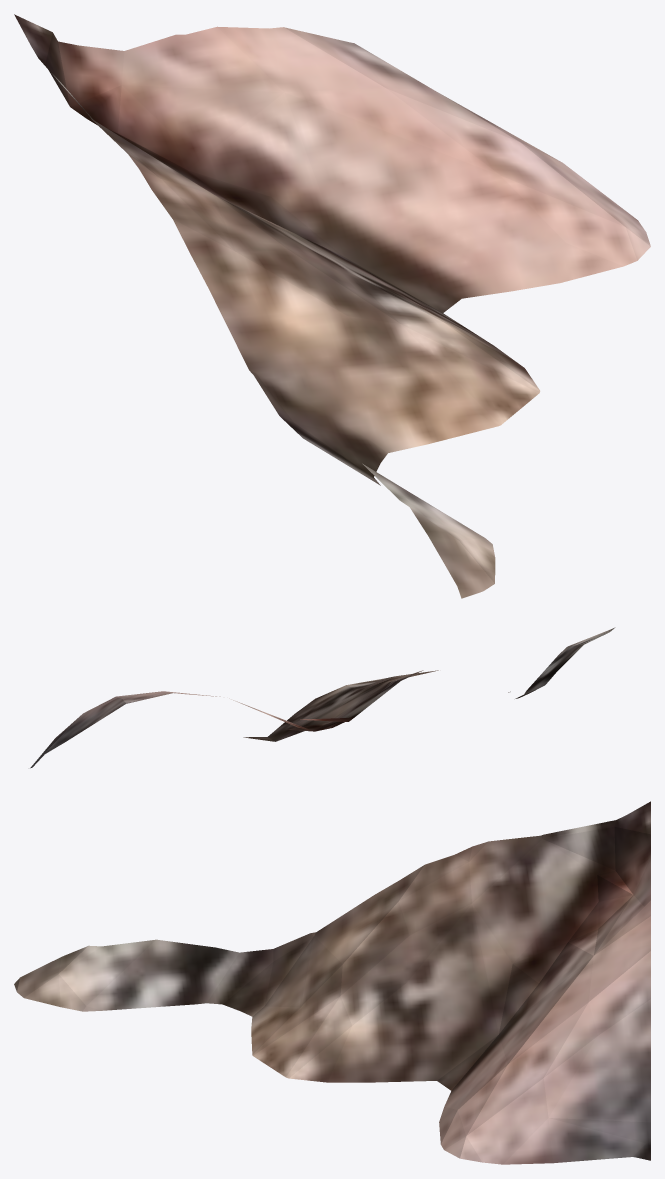
3 views of the same model, one above another, from view 1: azimuth 30°, elevation 25°; view 2: azimuth 150°, elevation 25°; view 3: azimuth 270°, elevation 25° (orthographic). The views are drawn at different scales.
Size of the model in its own units: 0.3103 by 0.1465 by 0.4626.
Materials: 1 (1 with a texture image).
